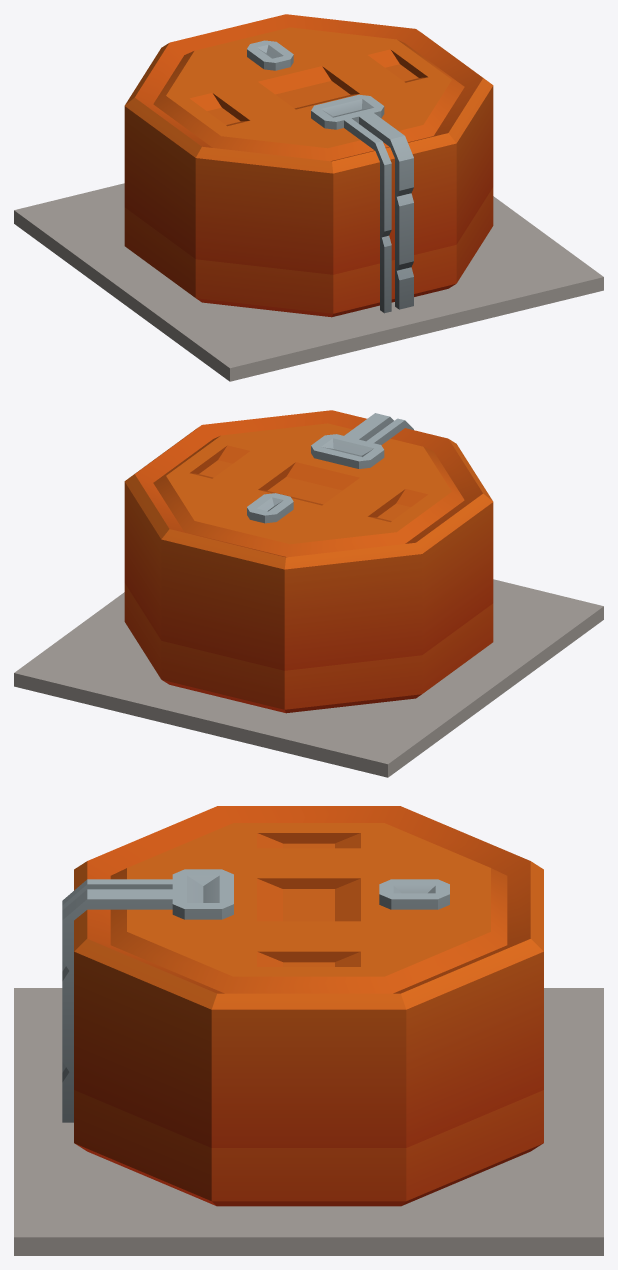
File: watertank.glb
The picture shows the model from 3 angles, top to bottom: view 1: azimuth 30°, elevation 25°; view 2: azimuth 150°, elevation 25°; view 3: azimuth 270°, elevation 25°; orthographic projection. The views are drawn at different scales.
Parts seen in each view (by area): view 1: Watertank; view 2: Watertank; view 3: Watertank.
Boxes of the visible parts, x1,y1,x2,y2 form: Watertank: [14, 14, 603, 381]; Watertank: [14, 410, 603, 777]; Watertank: [14, 806, 603, 1255].
Size of the model in its own units: 0.29 by 0.1312 by 0.29.
Materials: 1 (1 with a texture image).
